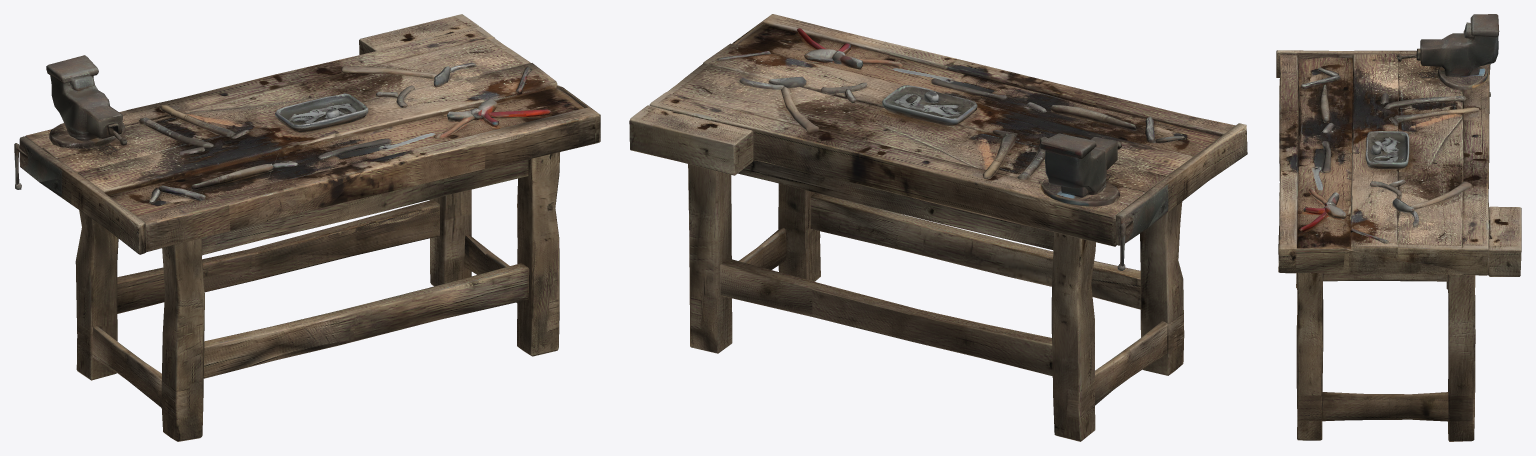
File: workbench.glb
The picture shows the model from 3 angles, left to right: view 1: azimuth 30°, elevation 25°; view 2: azimuth 150°, elevation 25°; view 3: azimuth 270°, elevation 25°; orthographic projection. The views are drawn at different scales.
Parts seen in each view (by area): view 1: Mesh_0; view 2: Mesh_0; view 3: Mesh_0.
Part boxes in pixels (box(x1,y1,x2,y2)): Mesh_0: box(14, 14, 600, 441); Mesh_0: box(629, 14, 1247, 441); Mesh_0: box(1276, 14, 1521, 441).
Bounding box in the file's own units: 1.33 × 0.8223 × 0.7.
1 material, 1 textured.
